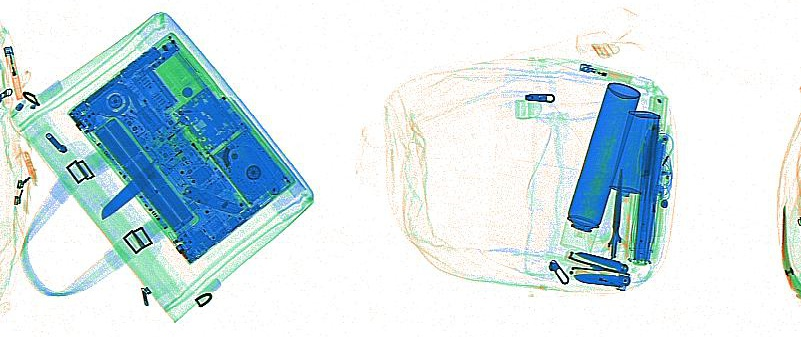knife: (100, 156, 167, 219), (181, 184, 244, 213), (563, 247, 628, 275), (566, 265, 631, 287)
lighter: (157, 136, 201, 176), (151, 113, 194, 148), (578, 62, 633, 85), (3, 45, 24, 100)
pressure: (557, 82, 640, 256)
scissors: (594, 166, 631, 276)
zippooil: (608, 108, 660, 196)
